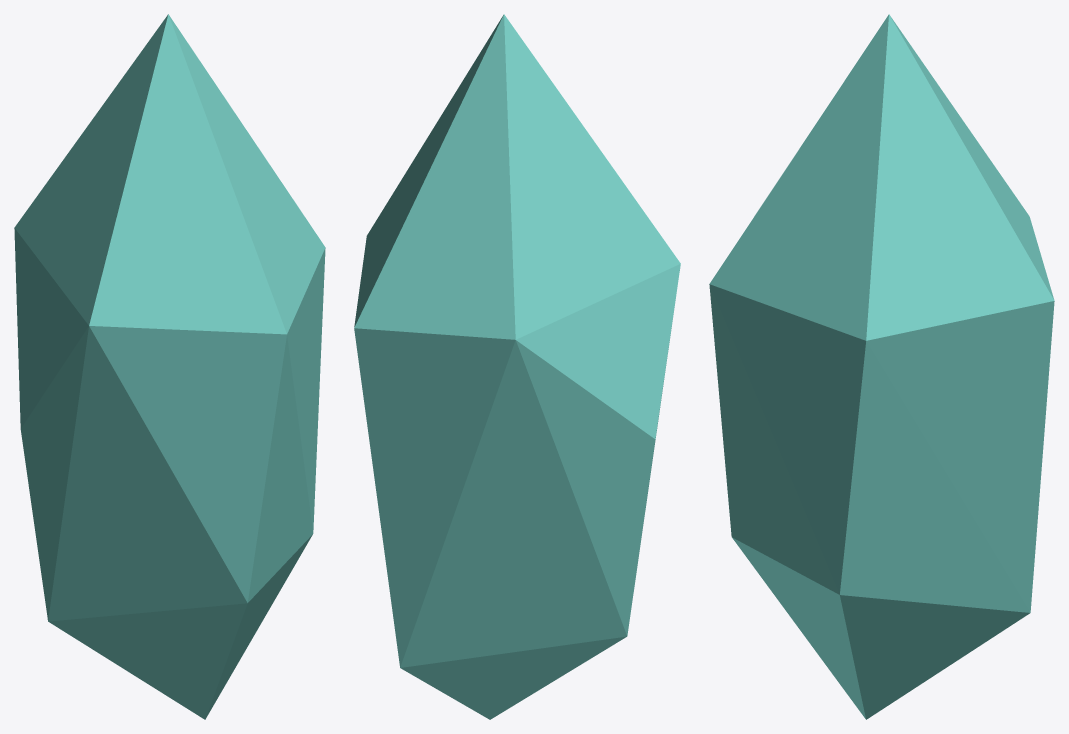
The model's file is Cristal.fbx.
The picture shows the model from 3 angles, left to right: view 1: azimuth 30°, elevation 25°; view 2: azimuth 150°, elevation 25°; view 3: azimuth 270°, elevation 25°; orthographic projection. The views are drawn at different scales.
Visible parts, largest first — view 1: Icosphere; view 2: Icosphere; view 3: Icosphere.
Part boxes in pixels (<box>): Icosphere: <box>14,14,325,719</box>; Icosphere: <box>354,14,680,719</box>; Icosphere: <box>709,14,1054,719</box>.
Bounding box in the file's own units: 146 × 335 × 151.
